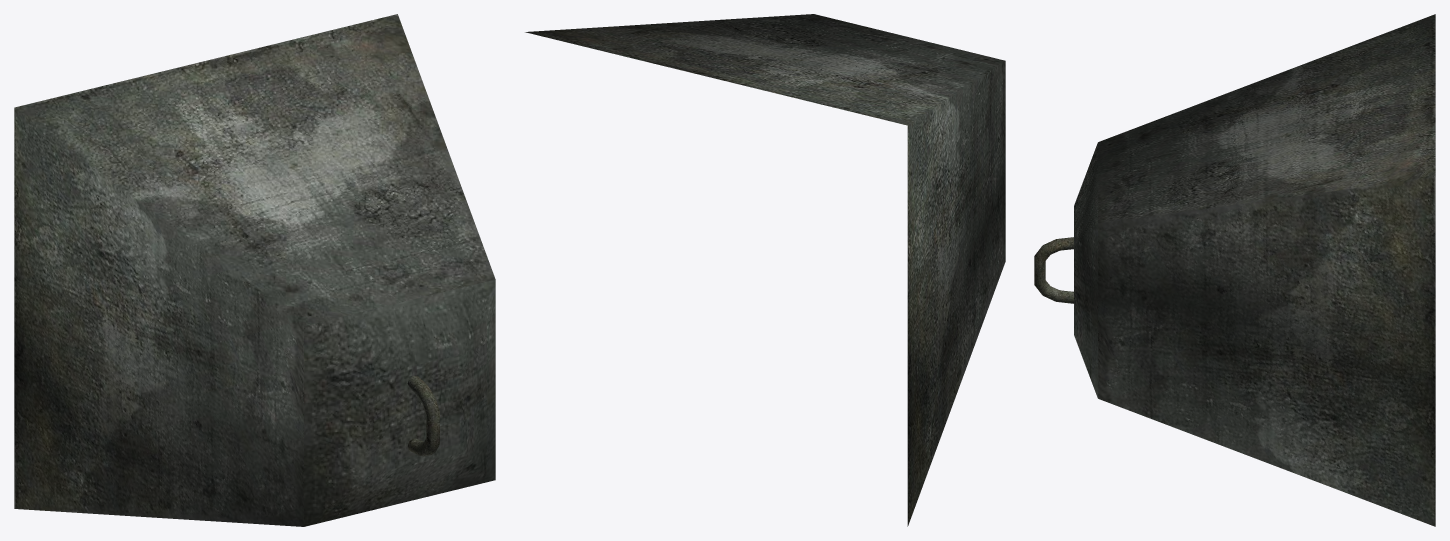
File: military_dragonstooth_wet.glb
The picture shows the model from 3 angles, left to right: view 1: azimuth 30°, elevation 25°; view 2: azimuth 150°, elevation 25°; view 3: azimuth 270°, elevation 25°; orthographic projection. The views are drawn at different scales.
Size of the model in its own units: 64 by 64 by 66.56.
1 material, 1 textured.
